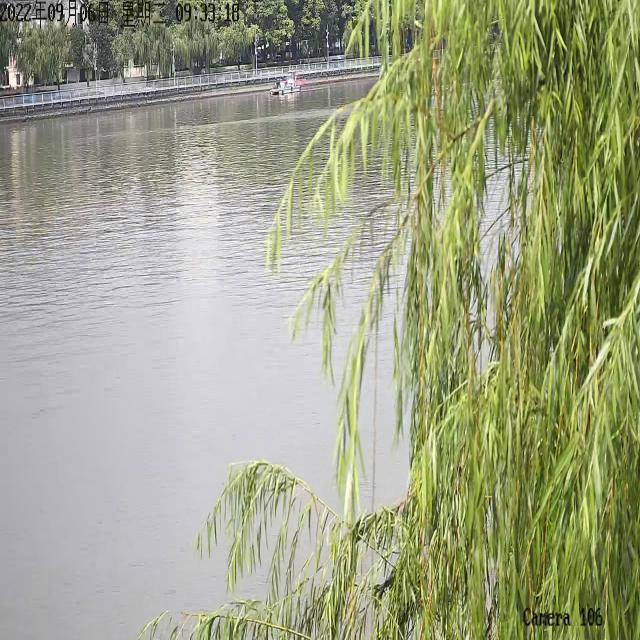ship: (269, 69, 300, 94)
